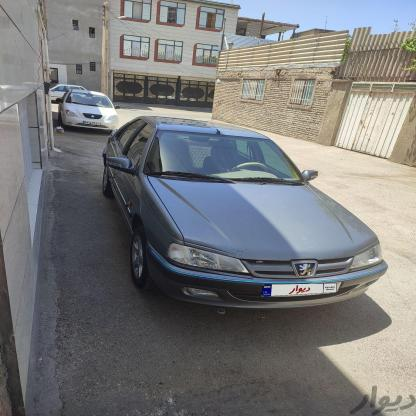Car: (91, 108, 396, 322), (54, 92, 115, 140), (49, 76, 87, 106)
